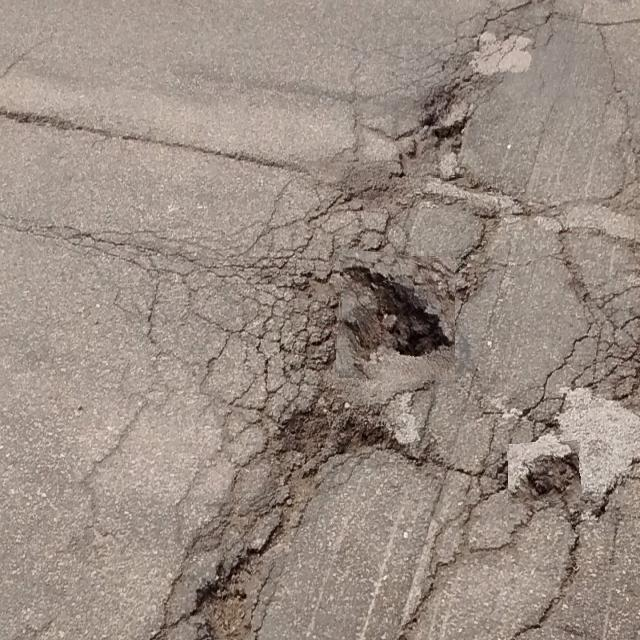Pothole: (337, 252, 455, 380), (410, 83, 478, 178), (183, 558, 251, 639), (508, 442, 581, 504)
